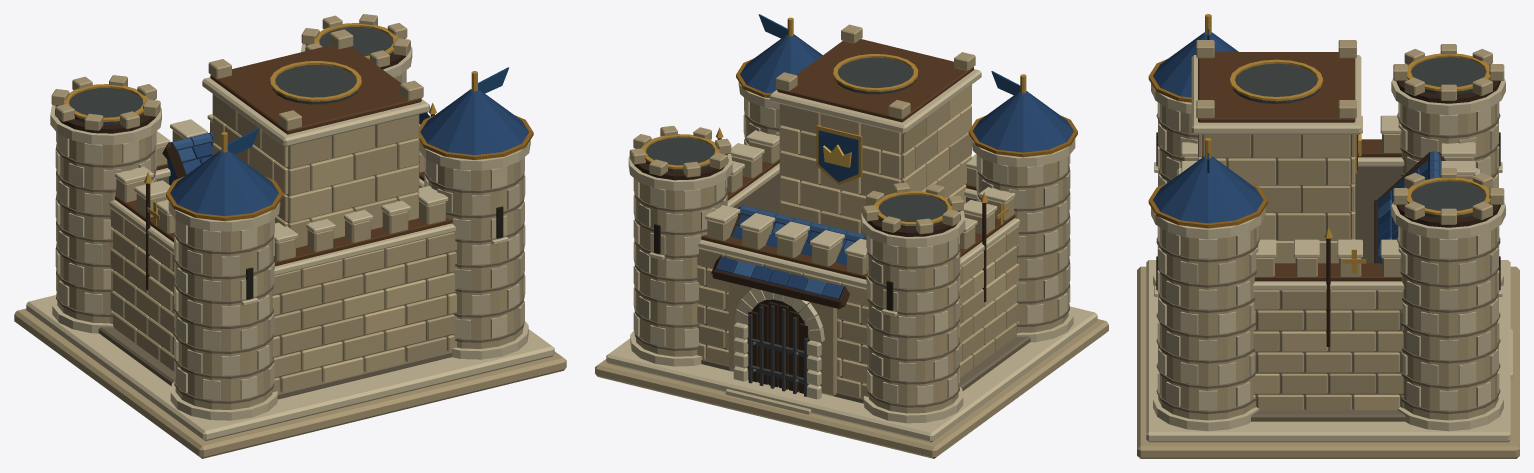
The picture shows the model from 3 angles, left to right: view 1: azimuth 30°, elevation 25°; view 2: azimuth 150°, elevation 25°; view 3: azimuth 270°, elevation 25°; orthographic projection. The views are drawn at different scales.
Parts seen in each view (by area): view 1: Stone, Timber, Roof, Metal, Fabric; view 2: Stone, Timber, Metal, Roof, Fabric; view 3: Stone, Timber, Metal, Roof.
Boxes of the visible parts, x1=… form: Stone: x1=14, y1=14, x2=566, y2=458; Timber: x1=55, y1=44, x2=452, y2=290; Roof: x1=167, y1=89, x2=528, y2=216; Metal: x1=64, y1=23, x2=533, y2=226; Fabric: x1=227, y1=67, x2=508, y2=154; Stone: x1=595, y1=24, x2=1108, y2=458; Timber: x1=634, y1=39, x2=1015, y2=393; Metal: x1=641, y1=17, x2=1077, y2=396; Roof: x1=716, y1=34, x2=1073, y2=299; Fabric: x1=758, y1=14, x2=1020, y2=182; Stone: x1=1137, y1=40, x2=1519, y2=458; Timber: x1=1198, y1=52, x2=1500, y2=346; Metal: x1=1148, y1=14, x2=1490, y2=273; Roof: x1=1153, y1=32, x2=1441, y2=263.
Size of the model in its own units: 8.96 by 6.8 by 7.96.
